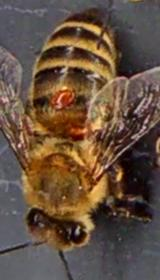varroa_mite: (44, 77, 78, 118)
